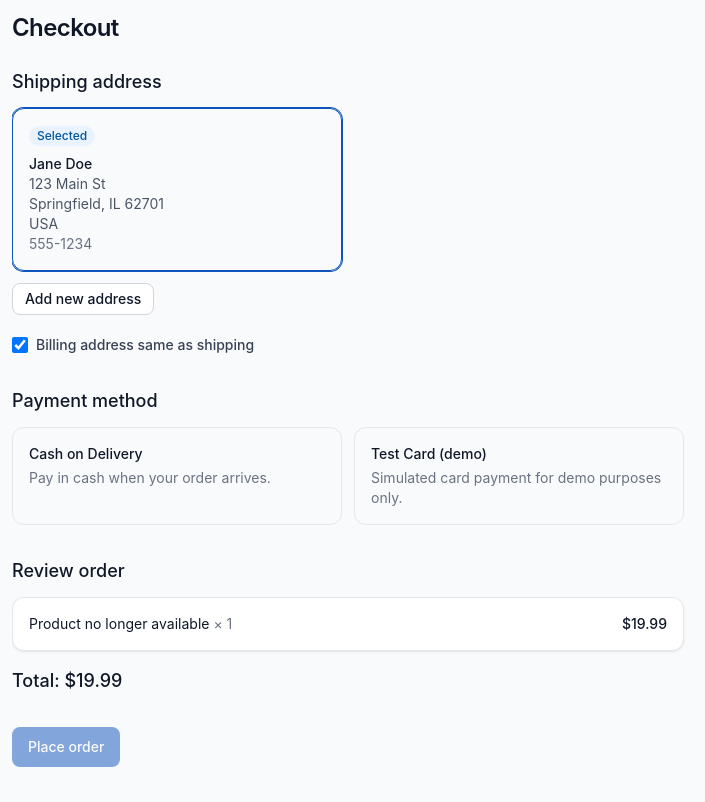
Test: Checkout › shows the demo succeed/decline control only for the test-card payment option
Expected: the text "Jane Doe" is shown, [29, 155, 92, 172]
Expected: the text "Simulate: Succeed" is not shown
Click the text "Test Card (demo)" at (429, 454), box [371, 444, 487, 464]
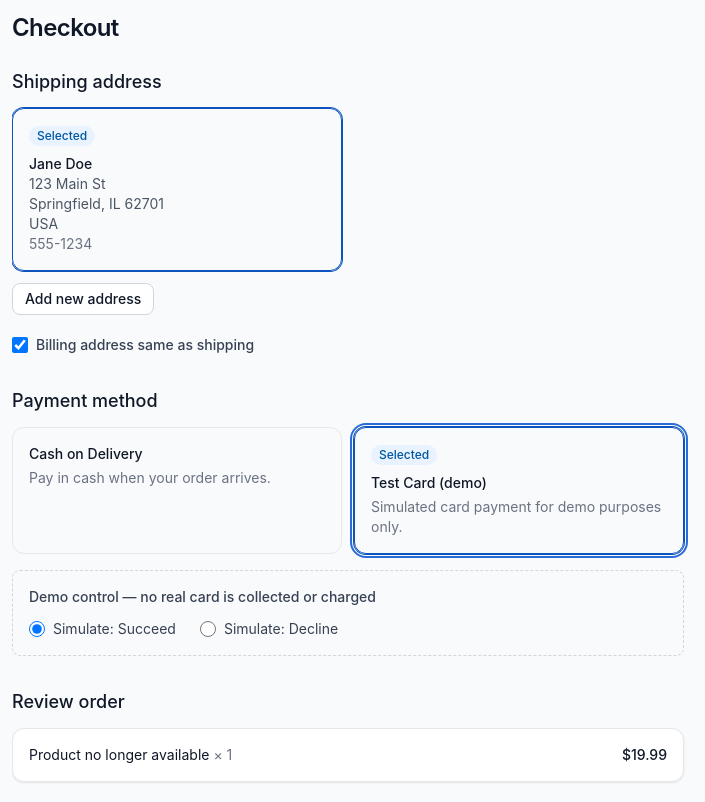
Expected: the text "Simulate: Succeed" is shown, [29, 619, 176, 639]
Expected: the text "Simulate: Decline" is shown, [200, 619, 338, 639]
